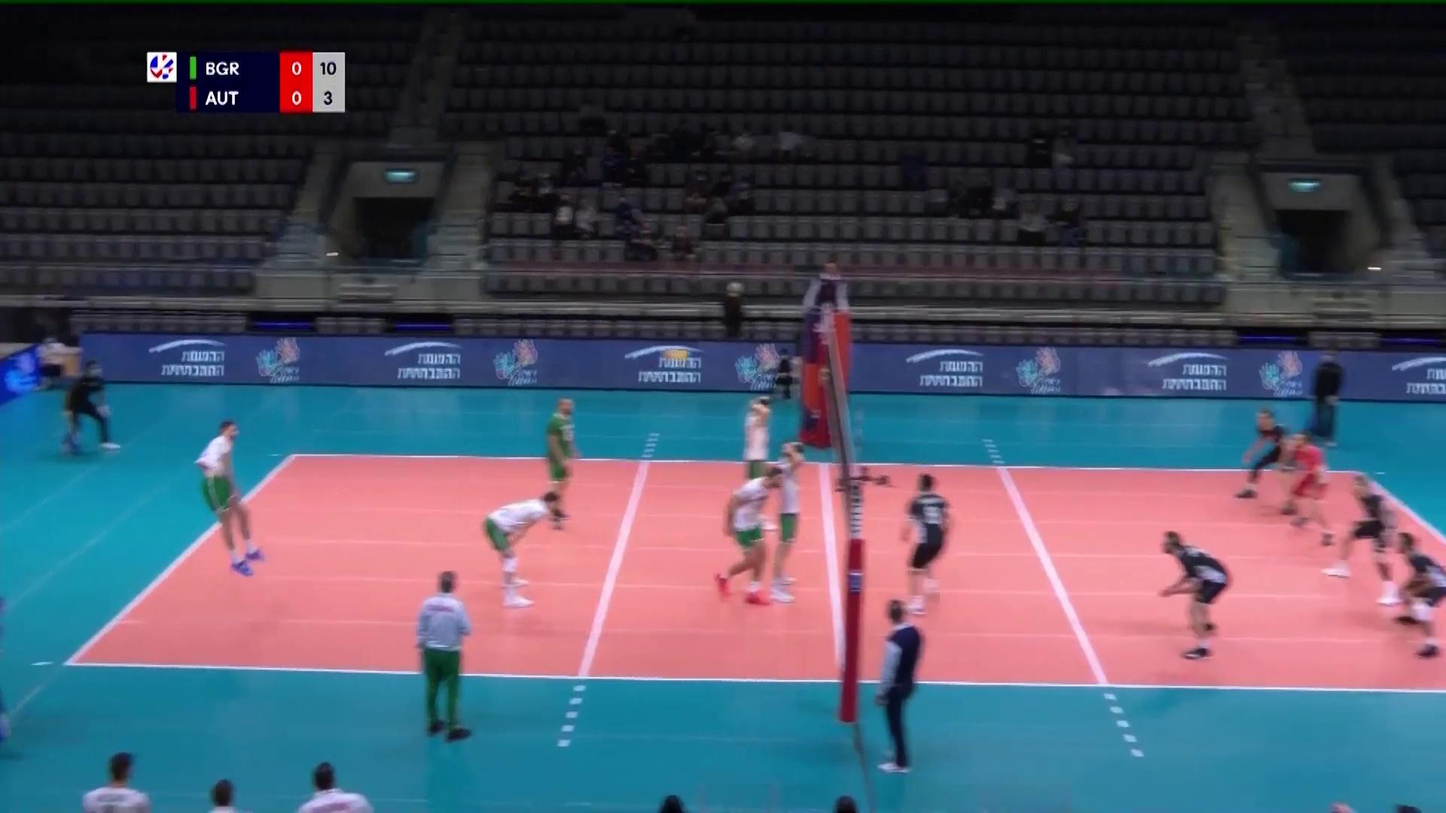ball: (664, 347, 687, 359)
